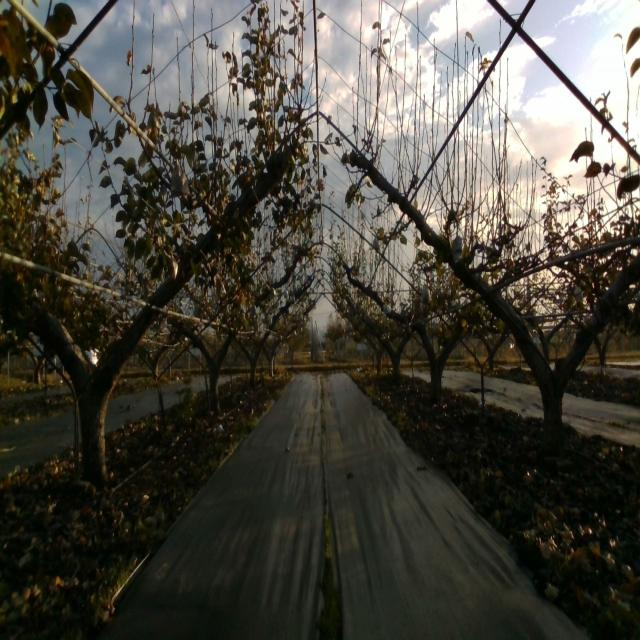pearbags: (170, 158, 190, 198), (451, 231, 463, 263)
